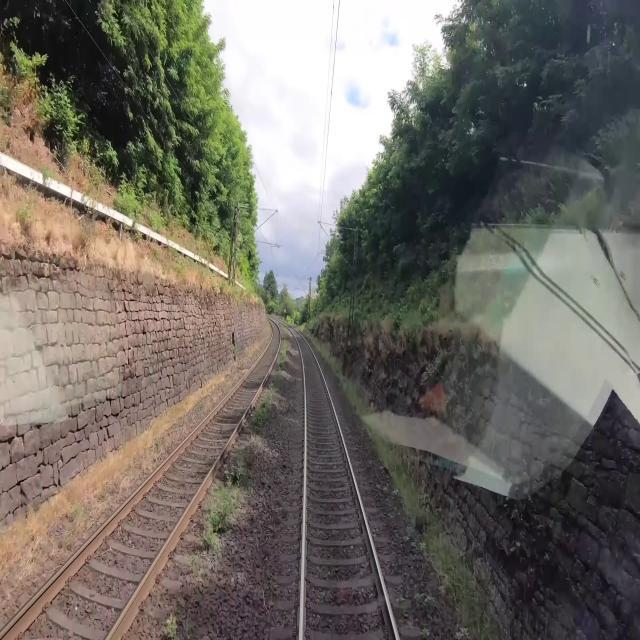Plant: (200, 455, 253, 552), (252, 381, 280, 432), (277, 333, 289, 373), (392, 600, 406, 627), (164, 616, 176, 639), (415, 592, 430, 609), (419, 628, 430, 639)
